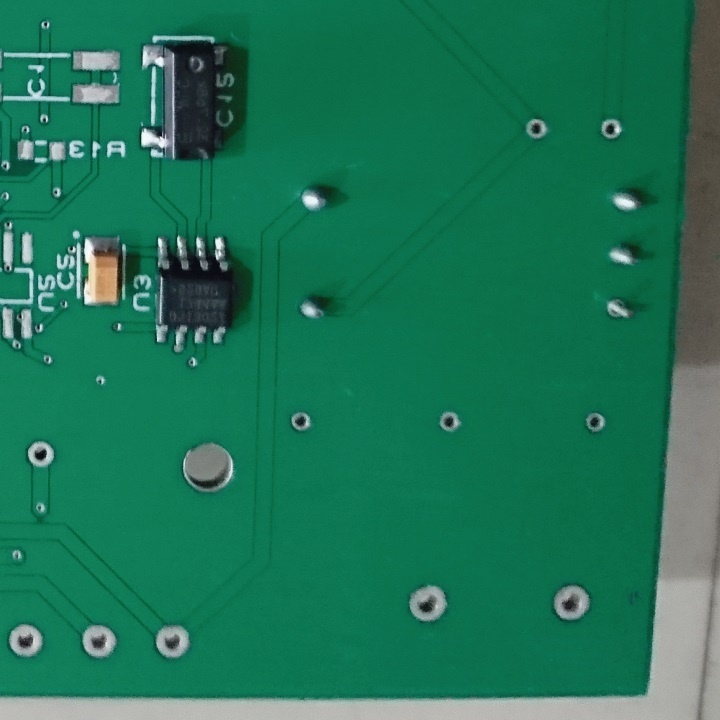F: (404, 580, 452, 630), (550, 581, 594, 625), (79, 620, 121, 663), (150, 622, 194, 663), (5, 620, 46, 663), (602, 294, 639, 329), (23, 437, 58, 473), (522, 114, 550, 145), (596, 116, 624, 143), (436, 409, 464, 435), (584, 410, 607, 438), (290, 409, 313, 435)
